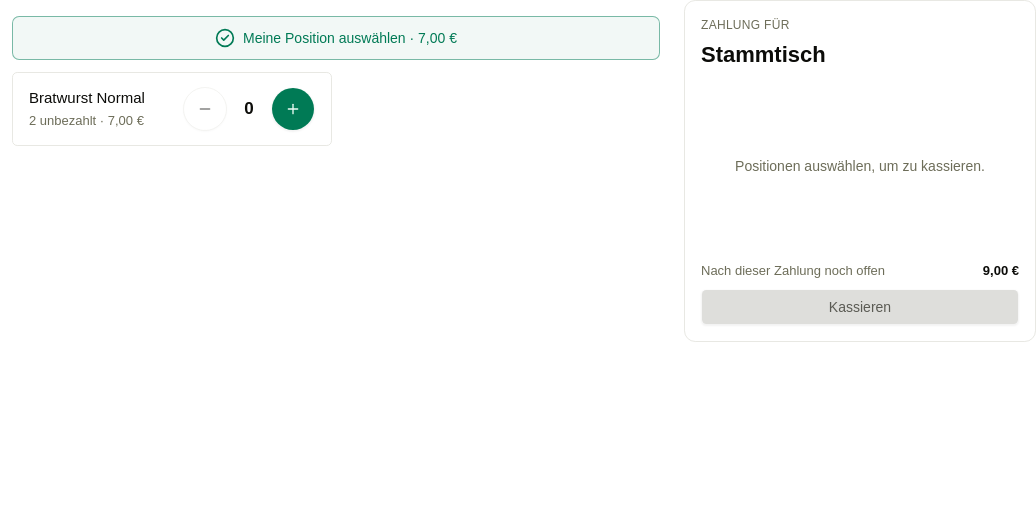
ZahlungTab feste Spalte (ab lg) › rendert die Abschluss-Spalte mit Restbetrag statt Dock und Drawer
expect the text "Bratwurst Normal" is shown: met, box [29,87,145,108]
expect the text "Nach dieser Zahlung noch offen" is shown: met, box [701,262,885,281]
Click the button named "Produkt hinzufügen" at (293,109), box [271,87,315,131]
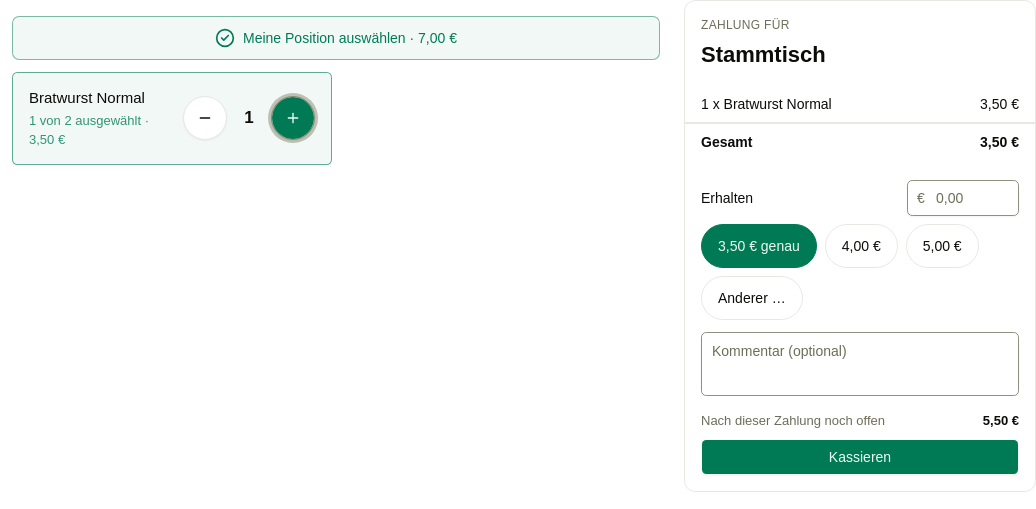
expect the button "Kassieren" is enabled: met, box [701,439,1019,475]
